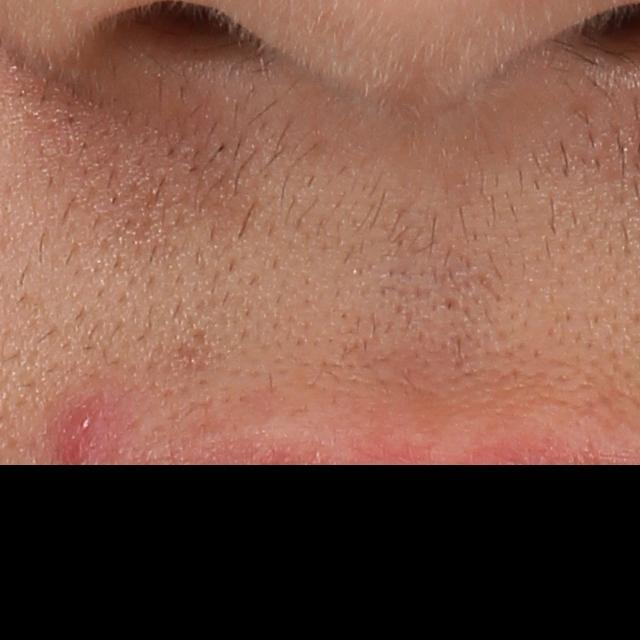papule: (50, 393, 116, 468)
